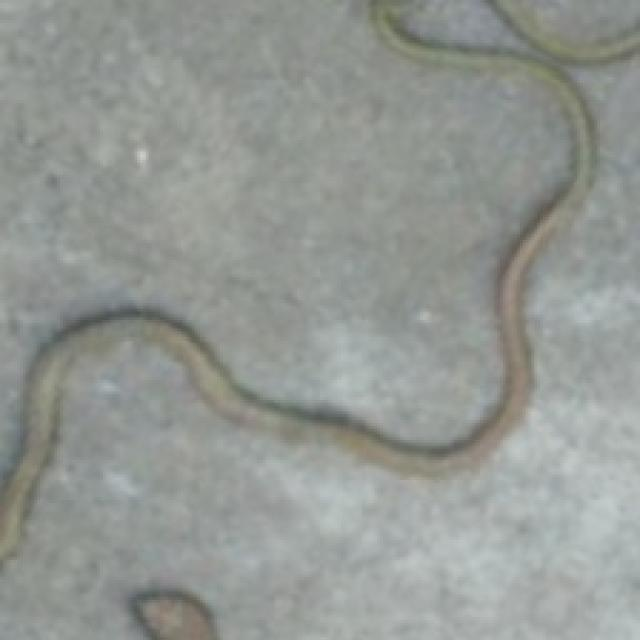paradise tree snake: (0, 5, 594, 558)
